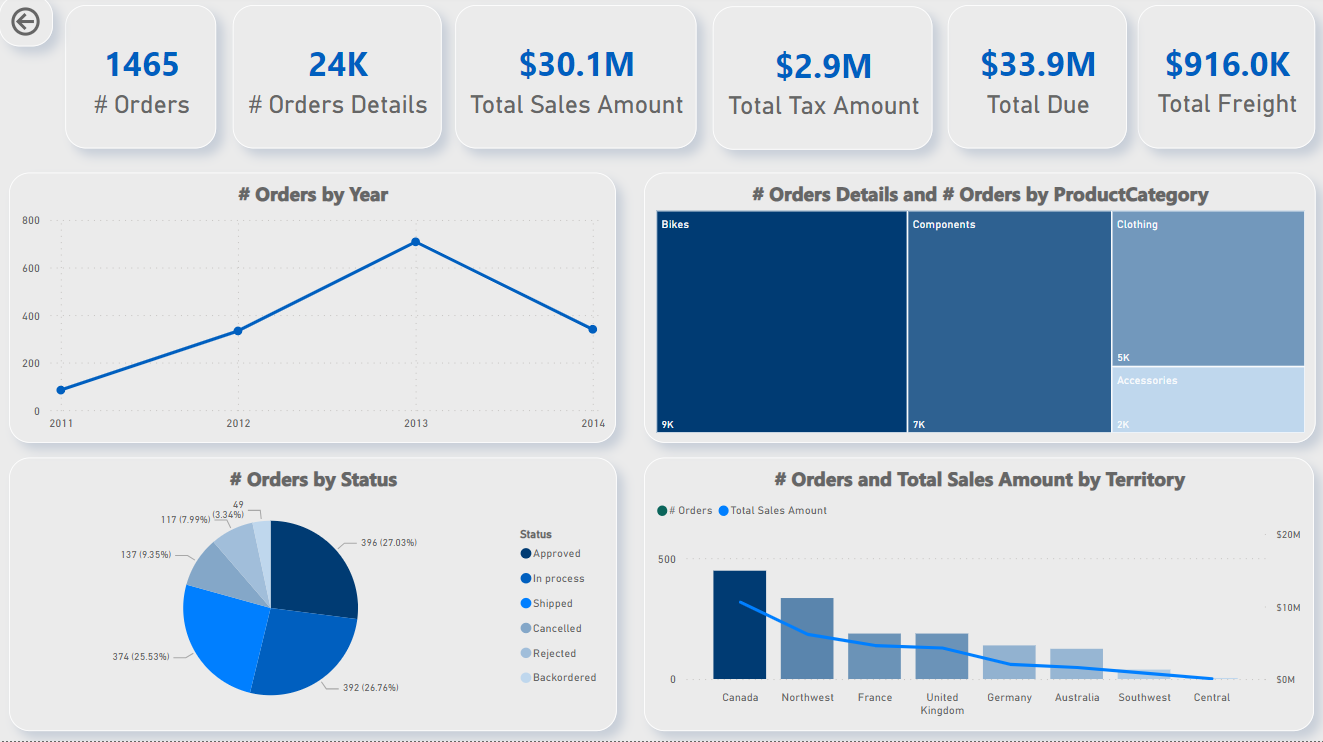

The page's visual inventory and layout, read from the dashboard file:
{"tool":"powerbi","page":{"name":"Sales","canvas":[1280,720],"ordinal":1},"visuals":[{"type":"card","fields":{"Values":["FactSales.# Orders"]},"box":[63.9,9.6,145.9,138.7],"z":0},{"type":"card","fields":{"Values":["FactSales.# Orders Details"]},"box":[225.5,9.6,201.4,138.7],"z":1000},{"type":"card","fields":{"Values":["FactSales.Total Sales Amount"]},"box":[440.2,9.6,232.8,138.7],"z":2000},{"type":"card","fields":{"Values":["FactSales.Total Tax Amount"]},"box":[688.6,10.9,212.3,138.7],"z":3000},{"type":"card","fields":{"Values":["FactSales.Total Freight"]},"box":[1098.2,9.6,171.4,138.5],"z":4000},{"type":"card","fields":{"Values":["FactSales.Total Due"]},"box":[915.4,9.6,172.5,138.7],"z":5000},{"type":"lineChart","fields":{"Y":["FactSales.# Orders"],"Category":["DimDate.Date.Variation.Date Hierarchy.Year","DimDate.Date.Variation.Date Hierarchy.Quarter","DimDate.Date.Variation.Date Hierarchy.Month","DimDate.Date.Variation.Date Hierarchy.Day"]},"box":[10,171.1,585.6,261.1],"z":6000},{"type":"treemap","fields":{"Group":["DimProduct.Product Hierarchy.ProductCategory","DimProduct.Product Hierarchy.ProductSubCategory","DimProduct.Product Hierarchy.Product"],"Values":["FactSales.# Orders Details"]},"box":[622.2,171.1,647.8,261.1],"z":7000},{"type":"pieChart","fields":{"Category":["DimStatus.Status"],"Y":["FactSales.# Orders"]},"box":[9.6,446.2,586.1,264.1],"z":8000},{"type":"lineStackedColumnComboChart","fields":{"Category":["DimTerritory.Territory"],"Y":["FactSales.# Orders"],"Y2":["FactSales.Total Sales Amount"]},"box":[622.3,446.2,646.4,264.1],"z":9000},{"type":"actionButton","box":[0,0,51.9,49.4],"z":10000}]}

Visuals, with their boxes in screenshot pixels (x1, y1, x2, y2), scaled from the page's 1280x720 canvas onto the 1323x742 screenshot:
card - FactSales.# Orders: (x1=66, y1=10, x2=217, y2=153)
card - FactSales.# Orders Details: (x1=233, y1=10, x2=441, y2=153)
card - FactSales.Total Sales Amount: (x1=455, y1=10, x2=696, y2=153)
card - FactSales.Total Tax Amount: (x1=712, y1=11, x2=931, y2=154)
card - FactSales.Total Freight: (x1=1135, y1=10, x2=1312, y2=153)
card - FactSales.Total Due: (x1=946, y1=10, x2=1124, y2=153)
lineChart - FactSales.# Orders x DimDate.Date.Variation.Date Hierarchy.Year: (x1=10, y1=176, x2=616, y2=445)
treemap - DimProduct.Product Hierarchy.ProductCategory x DimProduct.Product Hierarchy.ProductSubCategory: (x1=643, y1=176, x2=1313, y2=445)
pieChart - DimStatus.Status x FactSales.# Orders: (x1=10, y1=460, x2=616, y2=732)
lineStackedColumnComboChart - DimTerritory.Territory x FactSales.# Orders: (x1=643, y1=460, x2=1311, y2=732)
actionButton: (x1=0, y1=0, x2=54, y2=51)
